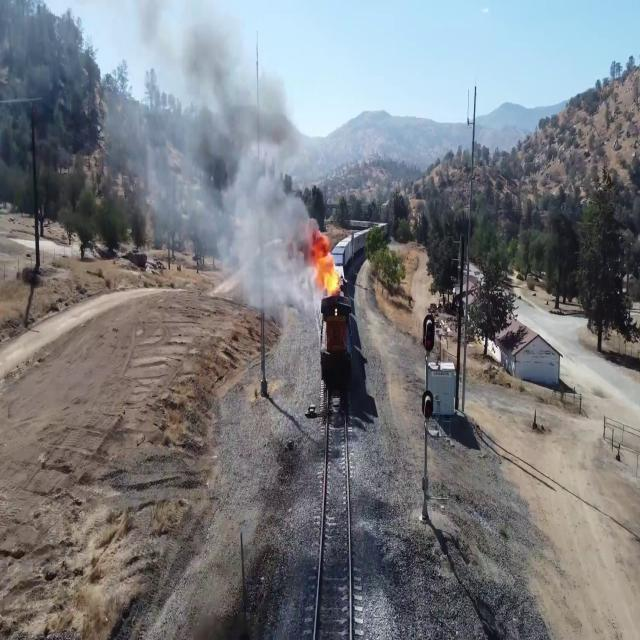Fire: (312, 230, 341, 303)
Smoke: (181, 30, 261, 190), (240, 165, 317, 290)
